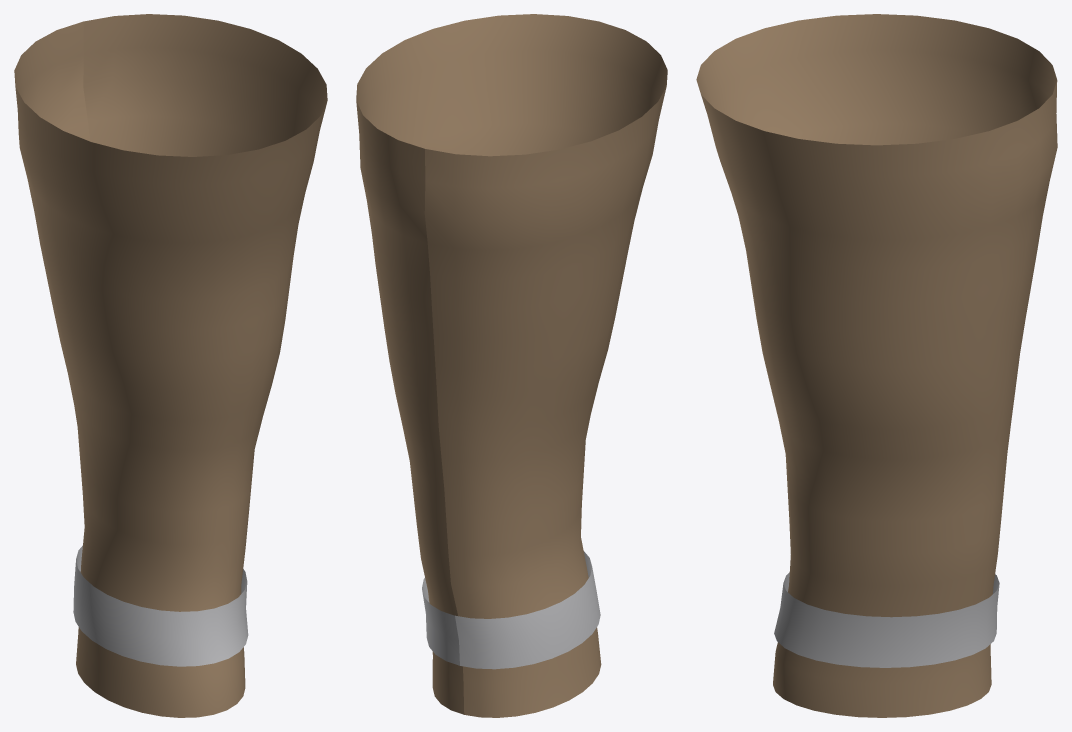
File: BootLean_L.glb
3 views of the same model, side by side, from view 1: azimuth 30°, elevation 25°; view 2: azimuth 150°, elevation 25°; view 3: azimuth 270°, elevation 25° (orthographic). The views are drawn at different scales.
Parts seen in each view (by area): view 1: BootLean_L; view 2: BootLean_L; view 3: BootLean_L.
Part boxes in pixels (bbox=[...]): BootLean_L: bbox=[14, 14, 327, 717]; BootLean_L: bbox=[356, 14, 667, 717]; BootLean_L: bbox=[696, 14, 1057, 717].
Bounding box in the file's own units: 0.162 × 0.35 × 0.1882.
